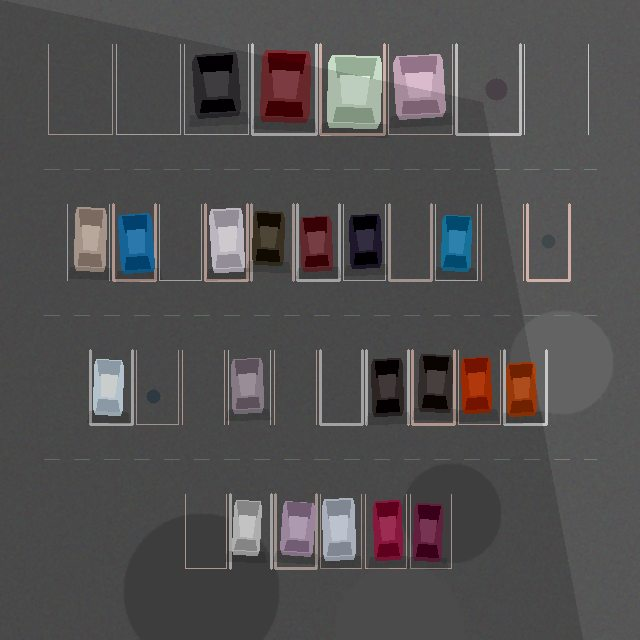space-empty: (48, 44, 112, 134), (116, 44, 180, 134), (456, 44, 520, 134), (524, 44, 588, 134), (159, 204, 201, 280), (389, 204, 431, 280), (481, 204, 523, 280), (527, 204, 569, 280), (136, 350, 178, 424), (182, 350, 224, 424), (274, 350, 316, 424), (320, 350, 362, 424), (185, 494, 226, 568)
space-occupied: (184, 44, 248, 134), (252, 44, 316, 134), (320, 44, 384, 134), (388, 44, 452, 134), (67, 204, 109, 280), (113, 204, 155, 280), (205, 204, 247, 280), (251, 204, 293, 280), (297, 204, 339, 280), (343, 204, 385, 280), (435, 204, 477, 280), (90, 350, 132, 424), (228, 350, 270, 424), (366, 350, 408, 424), (412, 350, 454, 424), (458, 350, 500, 424), (504, 350, 546, 424), (230, 494, 271, 568), (275, 494, 316, 568), (320, 494, 361, 568), (365, 494, 406, 568), (410, 494, 451, 568)
